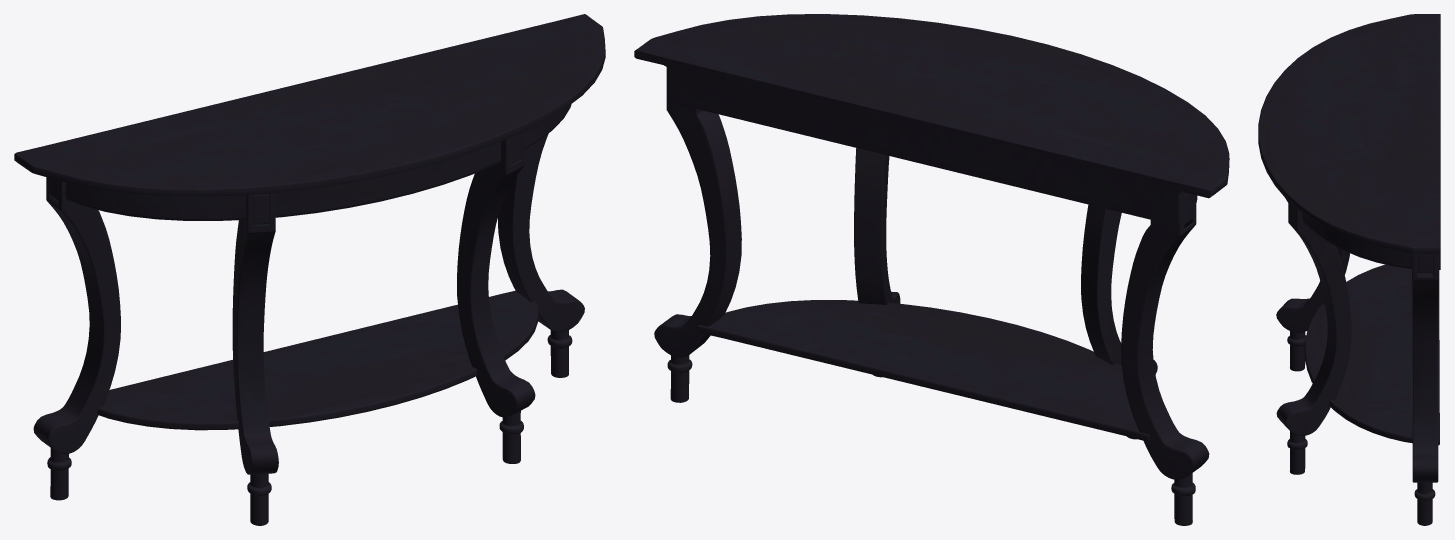
File: abo-B07MF1TRMS.glb
The picture shows the model from 3 angles, left to right: view 1: azimuth 30°, elevation 25°; view 2: azimuth 150°, elevation 25°; view 3: azimuth 270°, elevation 25°; orthographic projection. The views are drawn at different scales.
Bounding box in the file's own units: 1.2 × 0.692 × 0.394.
1 material, 1 textured.
